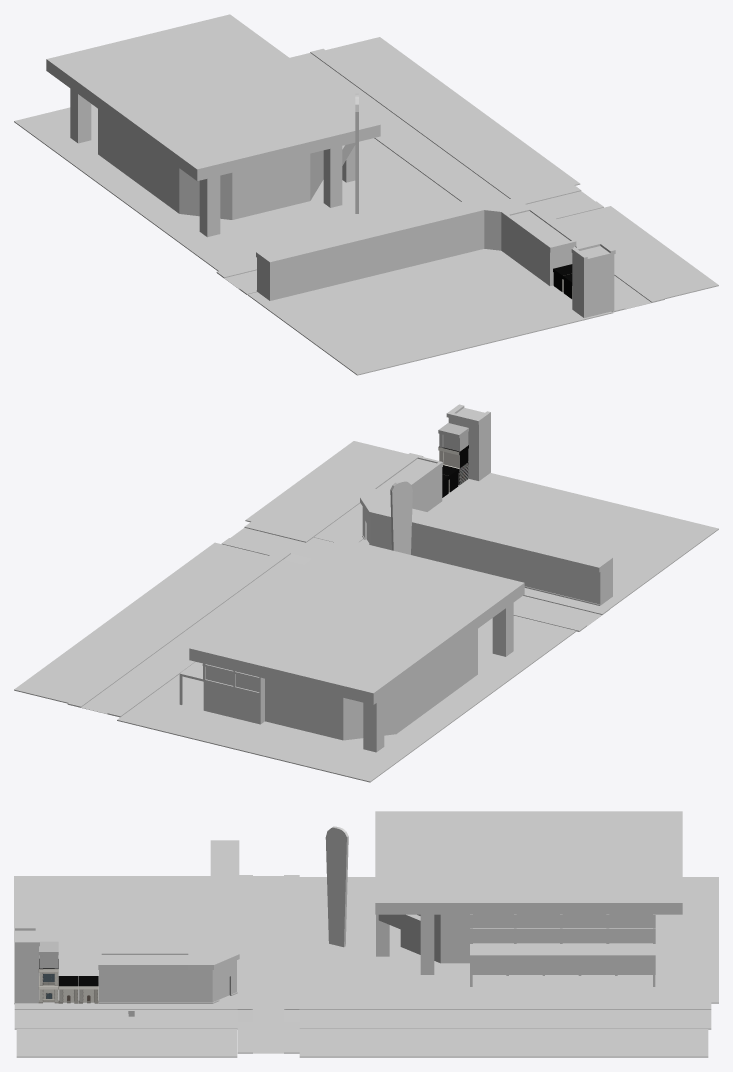
File: Edificios3 1.fbx
3 views of the same model, one above another, from view 1: azimuth 30°, elevation 25°; view 2: azimuth 150°, elevation 25°; view 3: azimuth 270°, elevation 25° (orthographic).
Parts seen in each view (by area): view 1: Cube.030, Cube.008, Cube.012, Cube.002, Cube.031, Cube.023, Cube.005, Cube.028, Cube.037, Cube.011, Cube.010, Cube.020 (+3 smaller); view 2: Cube.030, Cube.012, Cube.008, Cube.002, Cube.031, Cube.023, Cube.005, Cube.028, Cube.022, Cube.011, Cube.027, Cube.010 (+5 smaller); view 3: Cube.030, Cube.012, Cube.008, Cube.031, Cube.005, Cube.002, Cube.022, Cube.028, Cube.027, Cube.010, Cube.011, Cube.019 (+9 smaller).
Boxes of the visible parts, x1,y1,x2,y2 form: Cube.030: (46, 14, 380, 180); Cube.008: (247, 249, 613, 375); Cube.012: (14, 104, 460, 271); Cube.002: (256, 196, 576, 300); Cube.031: (326, 37, 580, 196); Cube.023: (98, 109, 323, 219); Cube.005: (290, 48, 524, 201); Cube.028: (556, 206, 718, 298); Cube.037: (571, 241, 615, 317); Cube.011: (514, 184, 603, 220); Cube.010: (548, 218, 664, 312); Cube.020: (199, 175, 220, 237); Cube.030: (189, 538, 524, 704); Cube.012: (117, 615, 576, 782); Cube.008: (359, 473, 718, 608); Cube.002: (360, 455, 612, 605); Cube.031: (14, 542, 268, 703); Cube.023: (265, 629, 477, 740); Cube.005: (67, 555, 303, 717); Cube.028: (245, 441, 407, 532); Cube.022: (202, 663, 264, 724); Cube.011: (221, 521, 333, 564); Cube.027: (513, 588, 609, 631); Cube.010: (301, 453, 438, 542); Cube.030: (375, 811, 682, 914); Cube.012: (299, 877, 718, 1003); Cube.008: (14, 876, 237, 1004); Cube.031: (299, 1029, 708, 1057); Cube.005: (299, 1002, 711, 1029); Cube.002: (98, 840, 239, 1003); Cube.022: (470, 914, 655, 974); Cube.028: (16, 1029, 237, 1057); Cube.027: (237, 875, 299, 978); Cube.010: (14, 1002, 237, 1029); Cube.011: (237, 978, 299, 1053); Cube.019: (470, 943, 655, 957).
Bounding box in the file's own units: 4507 × 1486 × 7419.
